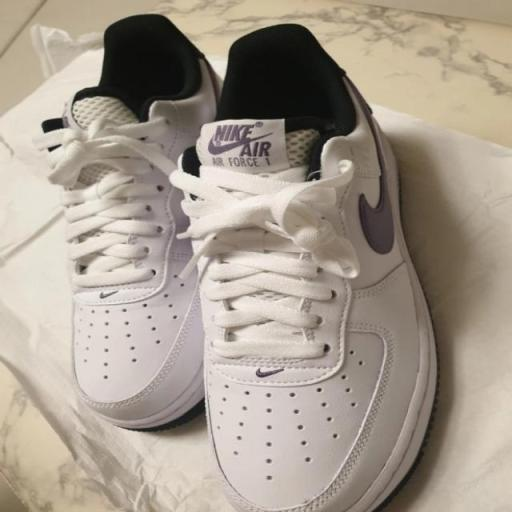Nike: (214, 124, 252, 142), (255, 368, 283, 380)
